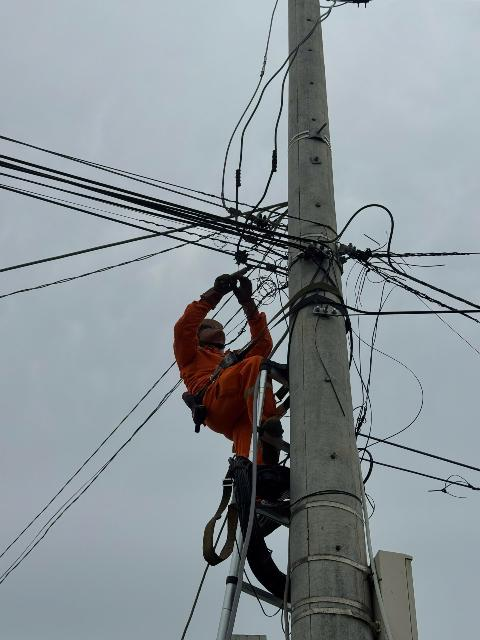gloves: (198, 268, 240, 309), (233, 273, 257, 306)
helmet: (190, 311, 228, 338)
shoes: (263, 413, 285, 472)
